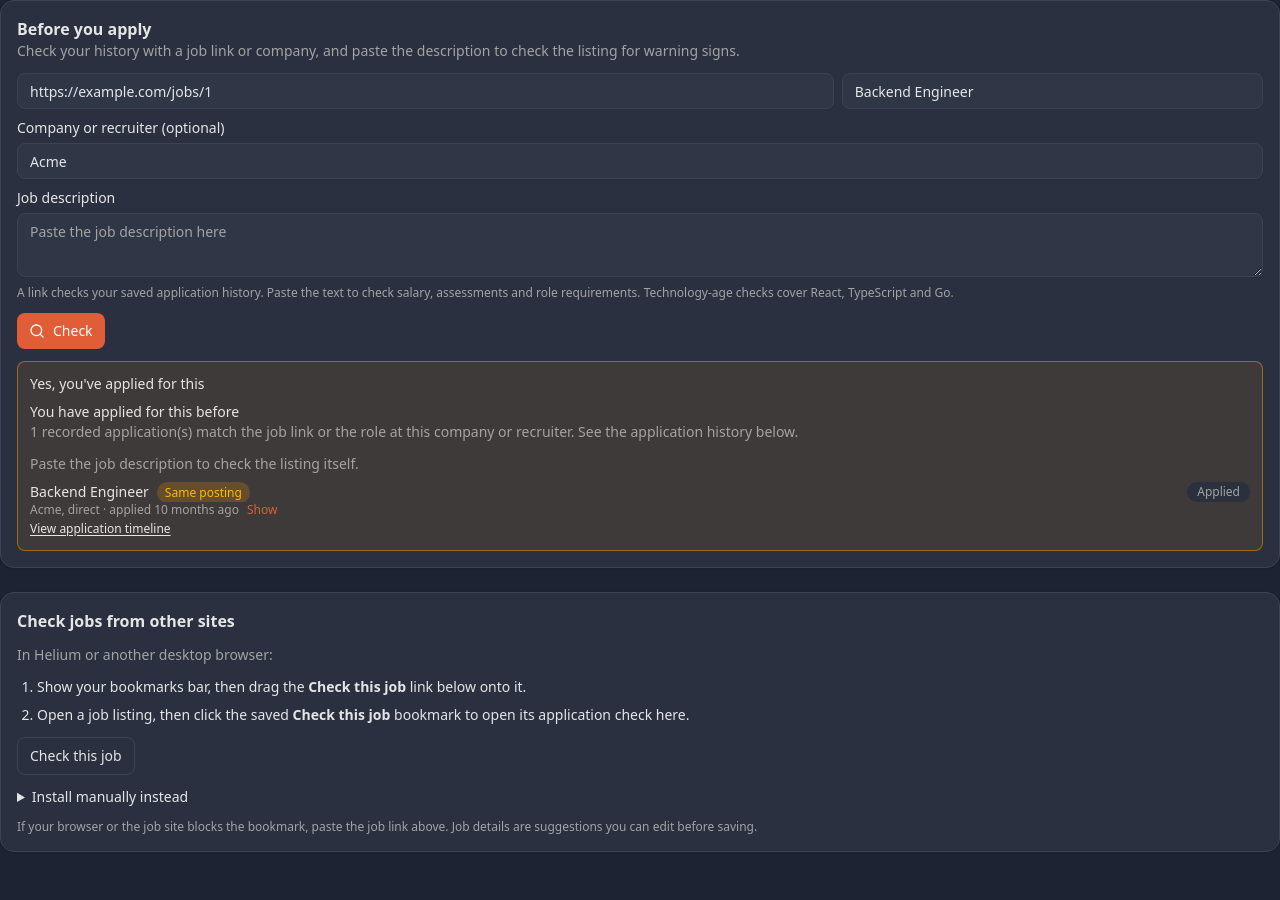
Test: receiving a listing › can edit imported values and prefill Add it without saving automatically
Expected: the text "Yes, you've applied for this" is shown, [30, 374, 204, 393]
Replace the text in the field named "Job link or company" with "https://example.com/jobs/2": (425, 91) [17, 73, 834, 109]
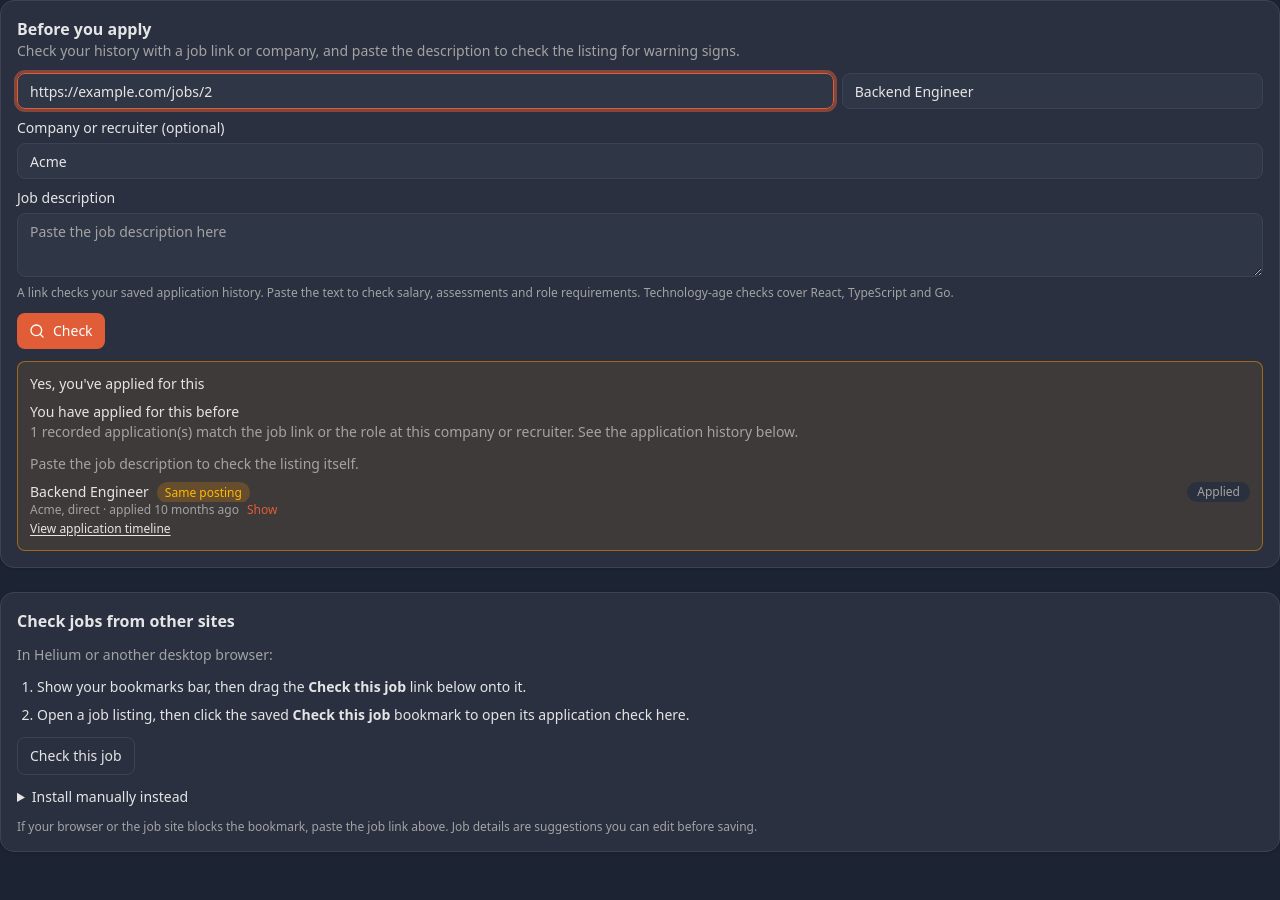
Replace the text in the field named "Job title" with "Data Analyst": (1052, 91) [842, 73, 1263, 109]
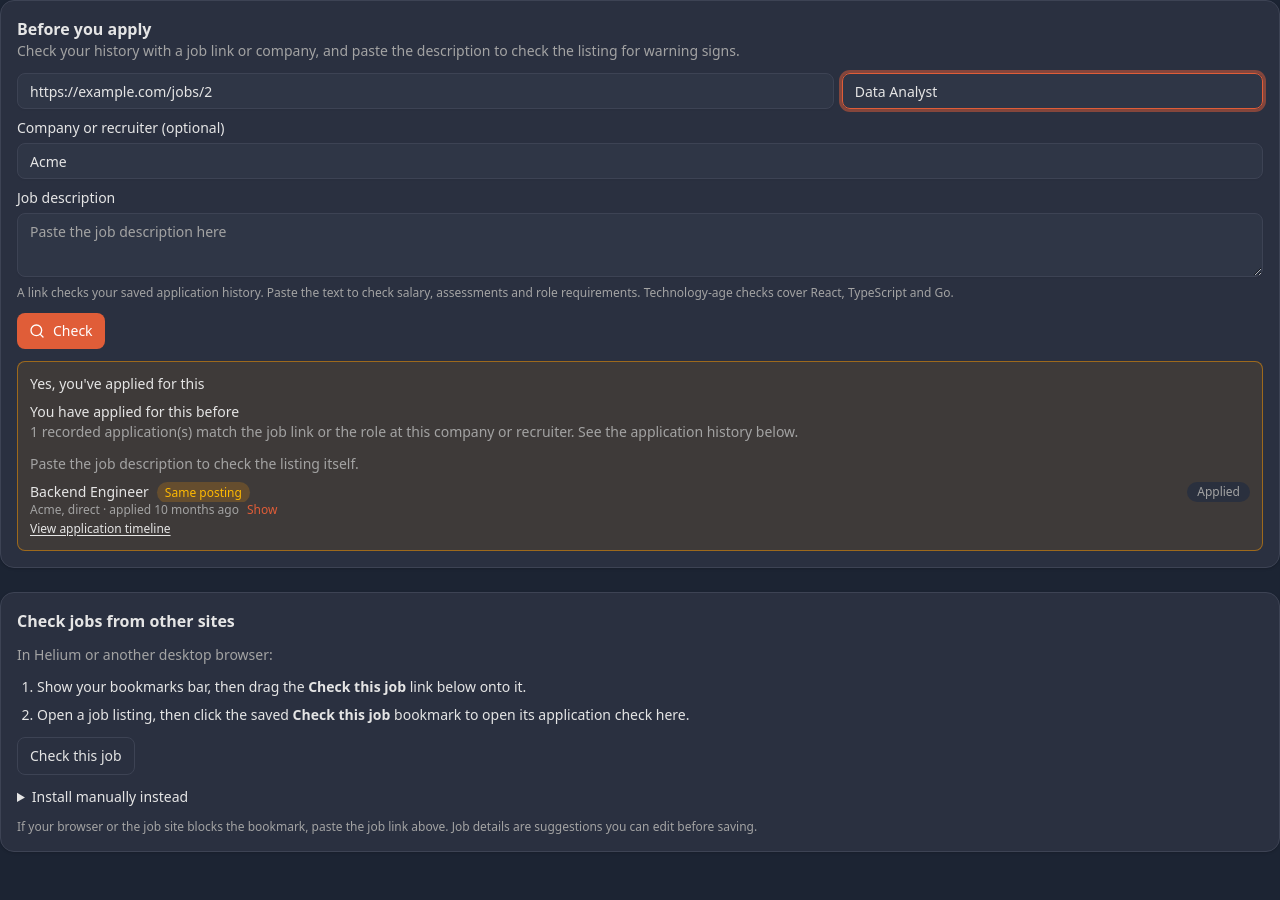
Click the button "Check": (61, 331) [17, 313, 105, 349]
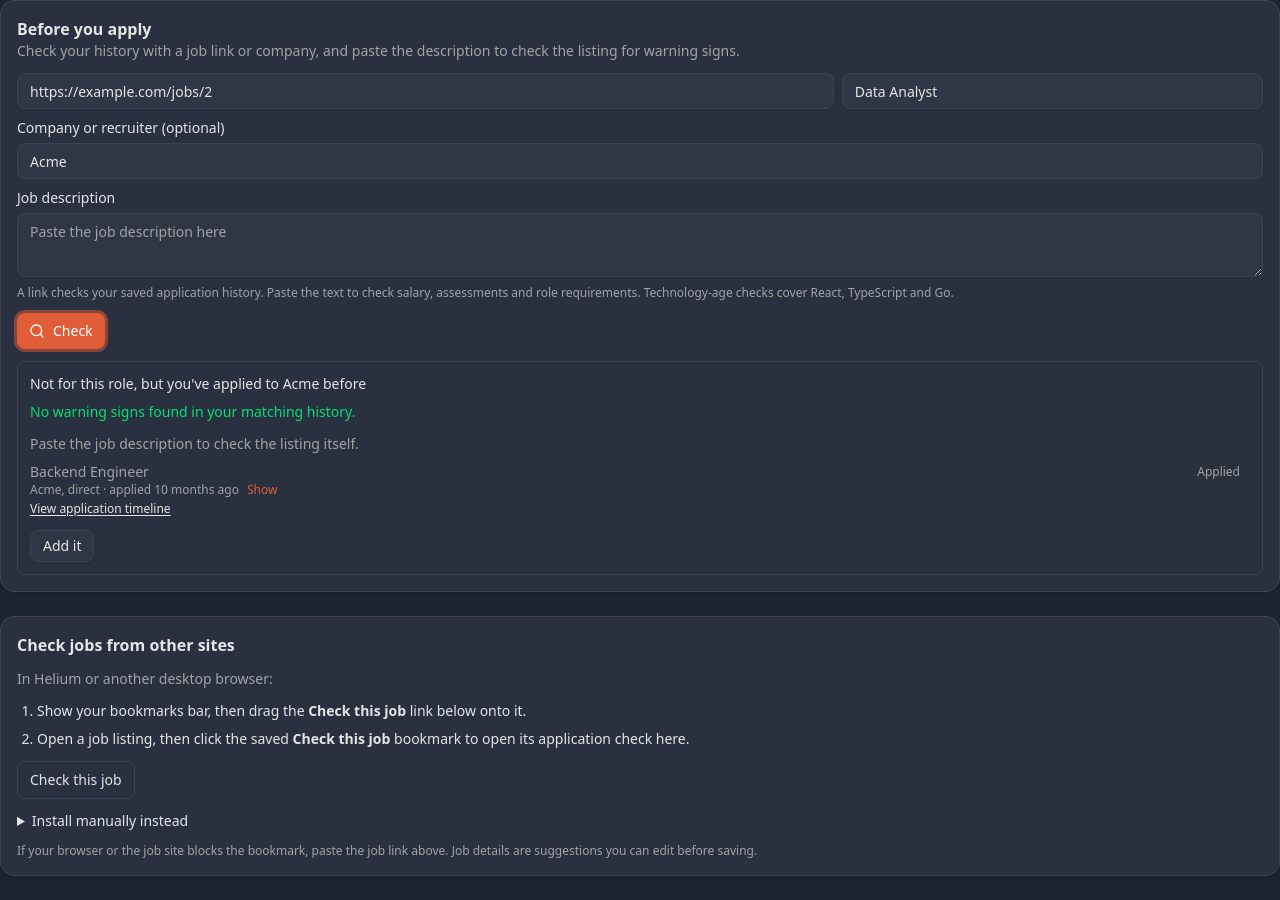
Click the button "Add it": (62, 546) [30, 530, 94, 562]
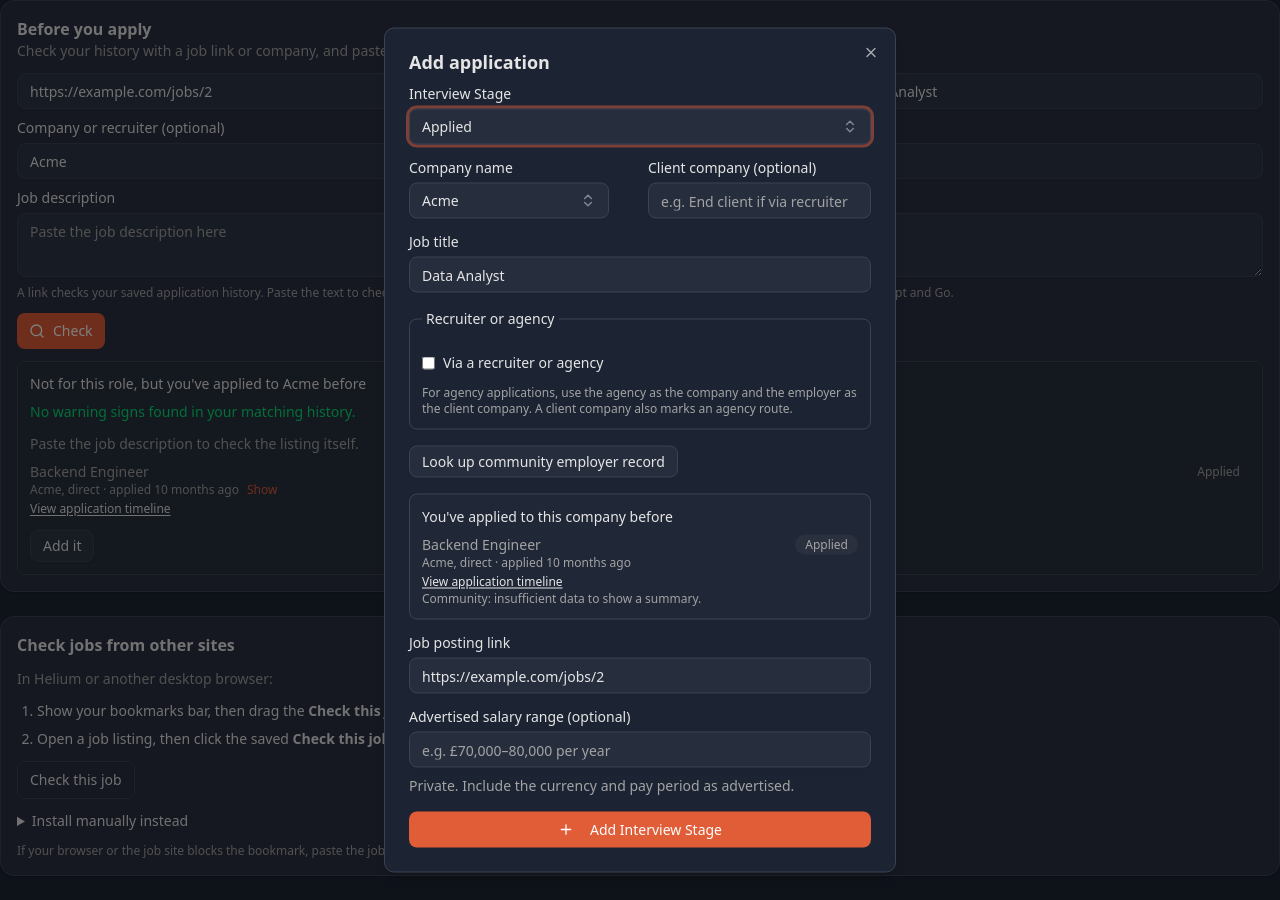
Expected: the field labelled "Job title" holds "Data Analyst", [409, 256, 871, 292]
Expected: the field labelled "Job posting link" holds "https://example.com/jobs/2", [409, 658, 871, 694]
Expected: the dropdown named "Company name" reads "Acme", [409, 182, 609, 218]
